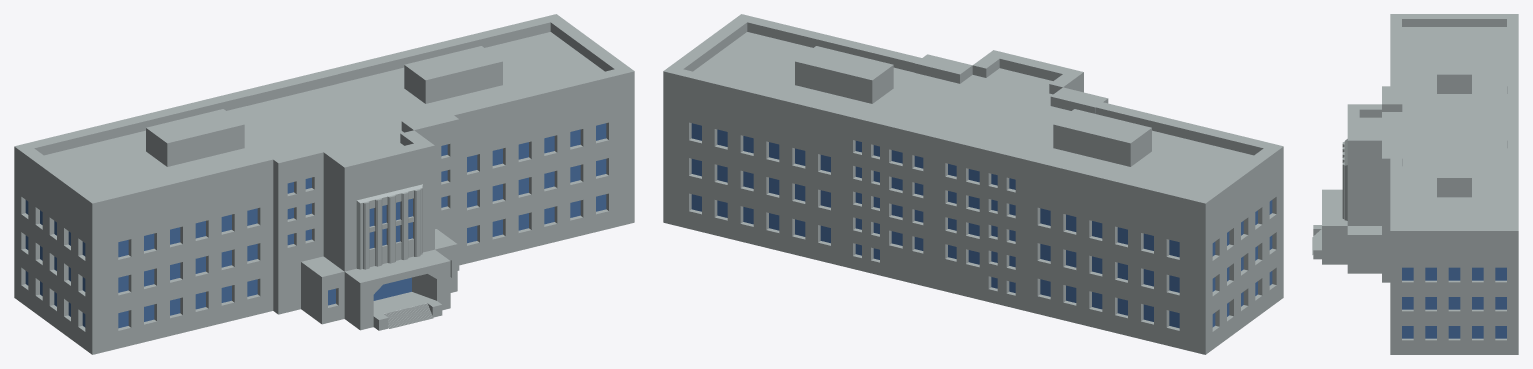
Rendered from bill_007.fbx.
3 views of the same model, side by side, from view 1: azimuth 30°, elevation 25°; view 2: azimuth 150°, elevation 25°; view 3: azimuth 270°, elevation 25° (orthographic). The views are drawn at different scales.
Parts seen in each view (by area): view 1: 立方体; view 2: 立方体; view 3: 立方体.
Part boxes in pixels (<box>): 立方体: <box>14,14,634,354</box>; 立方体: <box>663,14,1283,354</box>; 立方体: <box>1312,14,1518,354</box>.
Bounding box in the file's own units: 12000 × 3500 × 4830.
